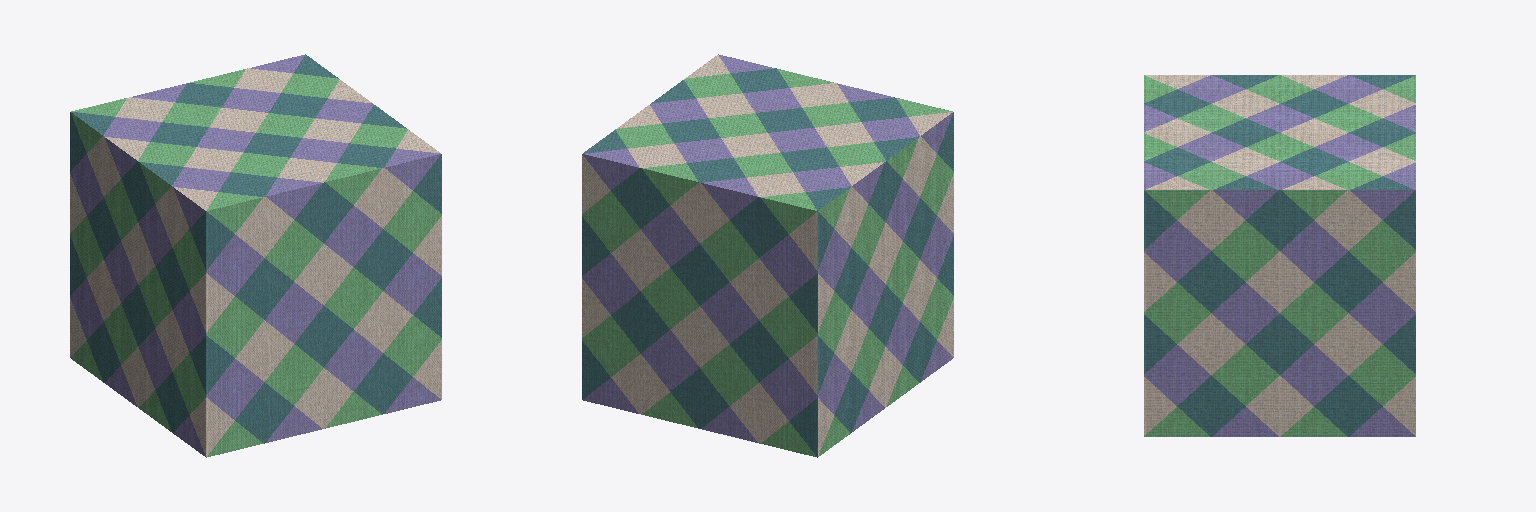
3 renders of one model, left to right at view 1: azimuth 30°, elevation 25°; view 2: azimuth 150°, elevation 25°; view 3: azimuth 270°, elevation 25°, orthographic.
Visible parts, largest first — view 1: pCube1; view 2: pCube1; view 3: pCube1.
Part boxes in pixels (left/top/right/bottom): pCube1: left=70, top=54, right=441, bottom=457; pCube1: left=582, top=54, right=953, bottom=457; pCube1: left=1144, top=75, right=1415, bottom=436.
Bounding box in the file's own units: 1 × 1 × 1.
1 materials, 1 textured.